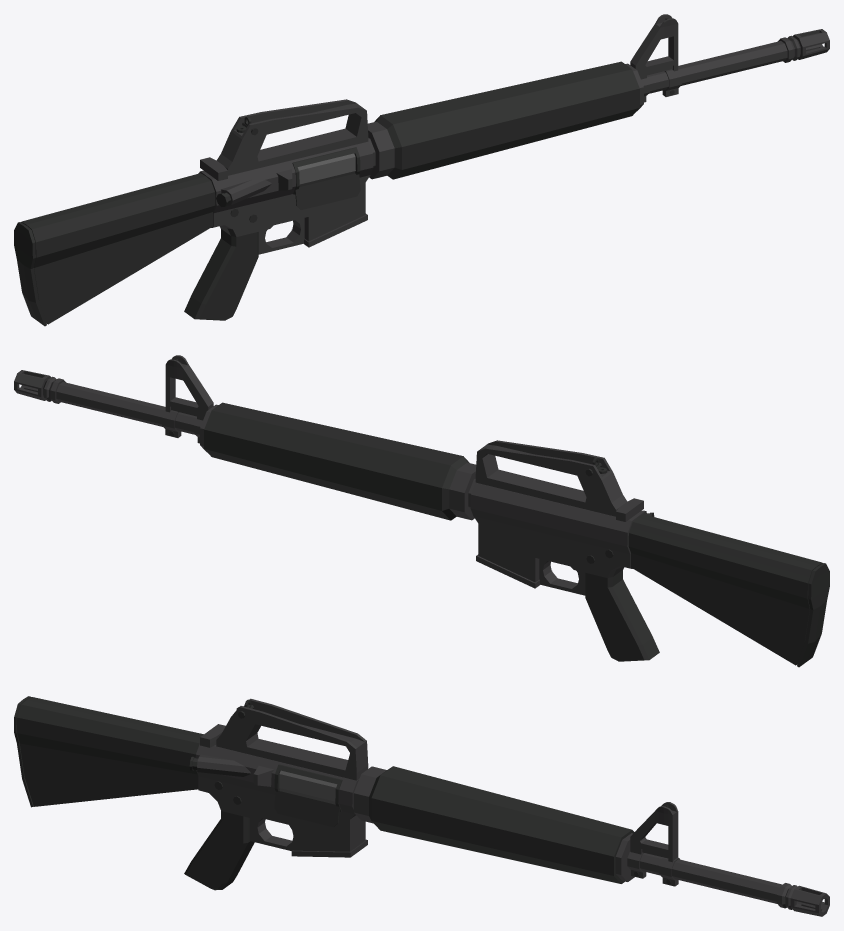
File: SM_AssaultRifle4_01.glb
3 views of the same model, one above another, from view 1: azimuth 30°, elevation 25°; view 2: azimuth 150°, elevation 25°; view 3: azimuth 330°, elevation 25° (orthographic).
Parts seen in each view (by area): view 1: SM_AssaultRifle4_01; view 2: SM_AssaultRifle4_01; view 3: SM_AssaultRifle4_01.
Part boxes in pixels (x1,y1,x2,y2): SM_AssaultRifle4_01: (14, 14, 829, 326); SM_AssaultRifle4_01: (14, 355, 829, 667); SM_AssaultRifle4_01: (14, 696, 829, 916).
Bounding box in the file's own units: 1.04 × 0.2381 × 0.0756.
1 material, 1 textured.
